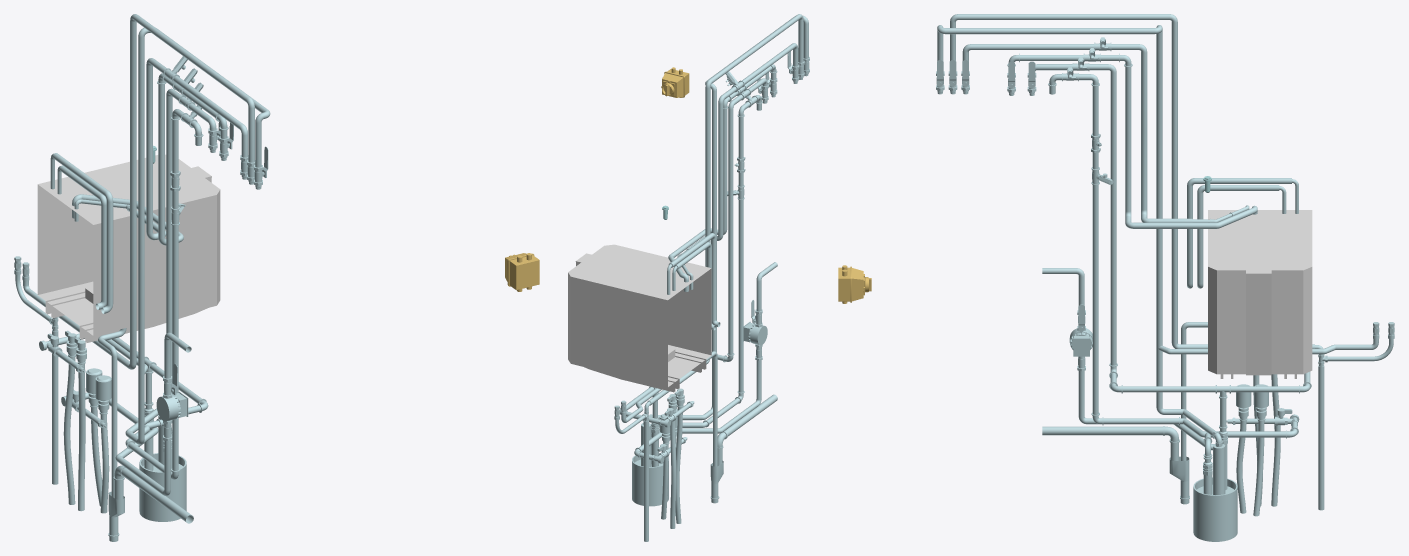
File: PipesExternal.fbx
3 renders of one model, left to right at view 1: azimuth 30°, elevation 25°; view 2: azimuth 150°, elevation 25°; view 3: azimuth 270°, elevation 25°, orthographic. The views are drawn at different scales.
Parts seen in each view (by area): view 1: OuterUnit, XL-3-Outer, XL-4-Outer, XL-1-Outer, XL-2-Outer, XL-9-Outer, XL-Misc-Outer, XL-8-Outer, Outer-Bottom-1, OuterUnit-Pipe-2, XL-4-Outer.001, OuterUnit-Pipe-1 (+5 smaller); view 2: OuterUnit, XL-3-Outer, XL-1-Outer, XL-2-Outer, XL-4-Outer, XL-Misc-Outer, XL-9-Outer, XL-8-Outer, Outer-Bottom-1, OuterUnit-Pipe-2, XL-Misc-Outer-2, Emergency-Switch (+6 smaller); view 3: OuterUnit, XL-4-Outer, XL-3-Outer, XL-2-Outer, XL-1-Outer, XL-9-Outer, XL-8-Outer, Outer-Bottom-1, XL-Misc-Outer, XL-Misc-Outer-2, OuterUnit-Pipe-2, OuterUnit-Pipe-1 (+3 smaller).
Part boxes in pixels (left/top/right/bottom): OuterUnit: left=37, top=154, right=220, bottom=343; XL-3-Outer: left=14, top=14, right=254, bottom=484; XL-4-Outer: left=22, top=27, right=270, bottom=464; XL-1-Outer: left=39, top=88, right=216, bottom=470; XL-2-Outer: left=61, top=109, right=203, bottom=479; XL-9-Outer: left=74, top=58, right=247, bottom=240; XL-Misc-Outer: left=115, top=332, right=191, bottom=495; XL-8-Outer: left=72, top=73, right=228, bottom=245; Outer-Bottom-1: left=139, top=453, right=186, bottom=521; OuterUnit-Pipe-2: left=50, top=153, right=113, bottom=313; XL-4-Outer.001: left=98, top=328, right=126, bottom=497; OuterUnit-Pipe-1: left=57, top=165, right=106, bottom=309; OuterUnit: left=568, top=244, right=711, bottom=392; XL-3-Outer: left=614, top=14, right=803, bottom=541; XL-1-Outer: left=620, top=78, right=767, bottom=466; XL-2-Outer: left=634, top=95, right=762, bottom=463; XL-4-Outer: left=621, top=15, right=808, bottom=466; XL-Misc-Outer: left=659, top=262, right=777, bottom=433; XL-9-Outer: left=677, top=43, right=798, bottom=289; XL-8-Outer: left=668, top=64, right=777, bottom=291; Outer-Bottom-1: left=632, top=453, right=668, bottom=506; OuterUnit-Pipe-2: left=667, top=233, right=720, bottom=327; XL-Misc-Outer-2: left=717, top=394, right=777, bottom=465; Emergency-Switch: left=661, top=67, right=689, bottom=97; OuterUnit: left=1208, top=210, right=1312, bottom=378; XL-4-Outer: left=937, top=25, right=1379, bottom=494; XL-3-Outer: left=950, top=14, right=1394, bottom=510; XL-2-Outer: left=1048, top=74, right=1299, bottom=494; XL-1-Outer: left=1029, top=64, right=1311, bottom=489; XL-9-Outer: left=962, top=44, right=1249, bottom=222; XL-8-Outer: left=1007, top=53, right=1257, bottom=228; Outer-Bottom-1: left=1193, top=477, right=1237, bottom=541; XL-Misc-Outer: left=1042, top=268, right=1214, bottom=450; XL-Misc-Outer-2: left=1042, top=426, right=1179, bottom=460; OuterUnit-Pipe-2: left=1187, top=178, right=1298, bottom=288; OuterUnit-Pipe-1: left=1197, top=185, right=1286, bottom=288.
Size of the model in its own units: 106 by 214 by 218.
